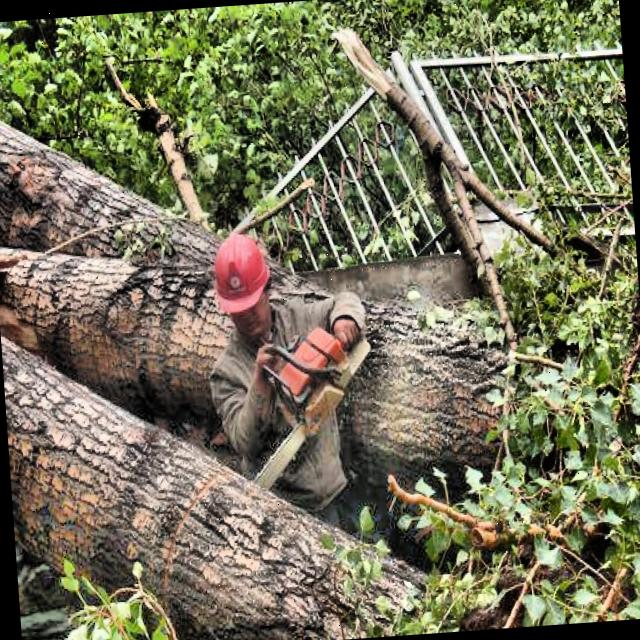helmet: (207, 223, 280, 342)
